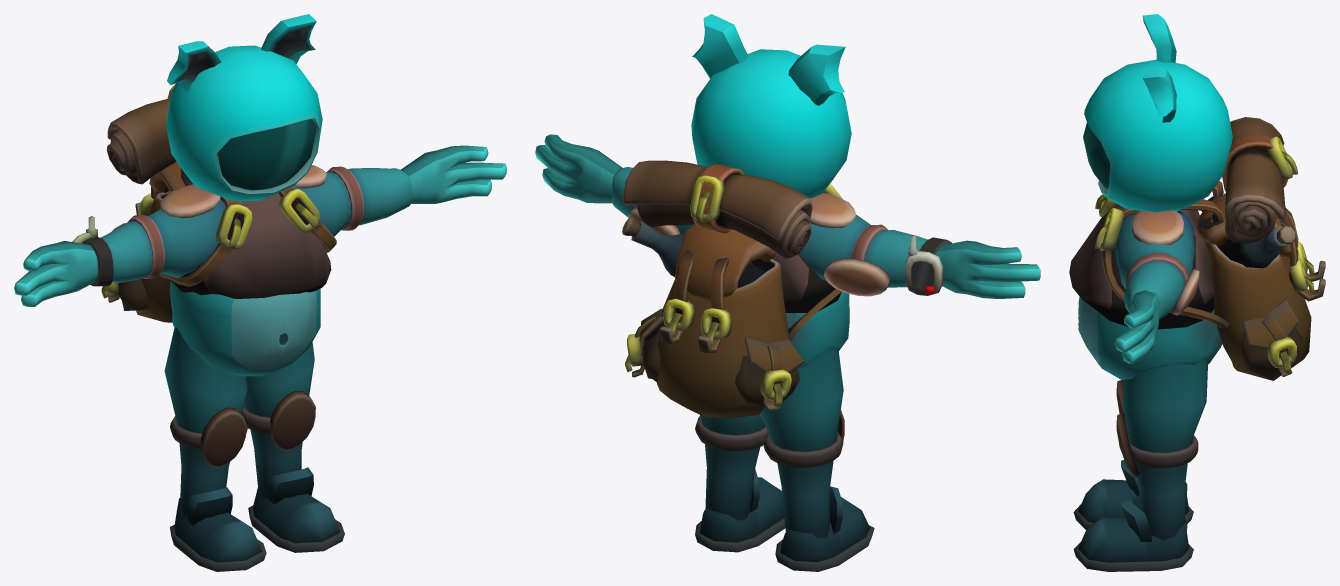
Rendered from Person_GG.fbx.
3 renders of one model, left to right at view 1: azimuth 30°, elevation 25°; view 2: azimuth 150°, elevation 25°; view 3: azimuth 270°, elevation 25°, orthographic. The views are drawn at different scales.
Parts seen in each view (by area): view 1: Cube.040; view 2: Cube.040; view 3: Cube.040.
Boxes of the visible parts, box(x1,y1,x2,y2) form: Cube.040: box(14, 14, 506, 571); Cube.040: box(535, 14, 1040, 571); Cube.040: box(1069, 14, 1325, 571).
Bounding box in the file's own units: 166 × 161 × 75.88.
